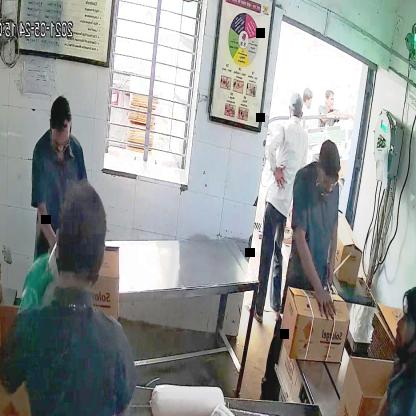goggles: (318, 164, 341, 190)
